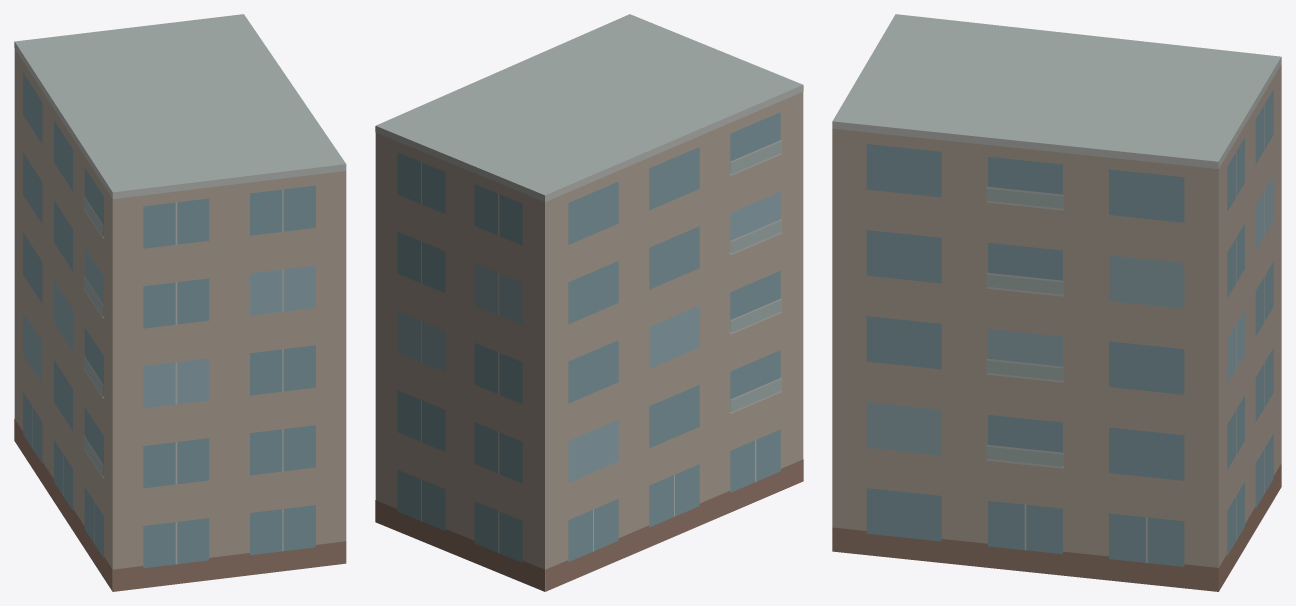
The model's file is survey-upis-32870214.glb.
3 views of the same model, side by side, from view 1: azimuth 30°, elevation 25°; view 2: azimuth 150°, elevation 25°; view 3: azimuth 270°, elevation 25° (orthographic). The views are drawn at different scales.
Visible parts, largest first — view 1: survey-upis-32870214.tmp; view 2: survey-upis-32870214.tmp; view 3: survey-upis-32870214.tmp.
Part boxes in pixels (x1,y1,x2,y2): survey-upis-32870214.tmp: [14, 14, 346, 591]; survey-upis-32870214.tmp: [375, 14, 803, 591]; survey-upis-32870214.tmp: [832, 14, 1281, 591].
Size of the model in its own units: 10.58 by 14.35 by 13.59.
